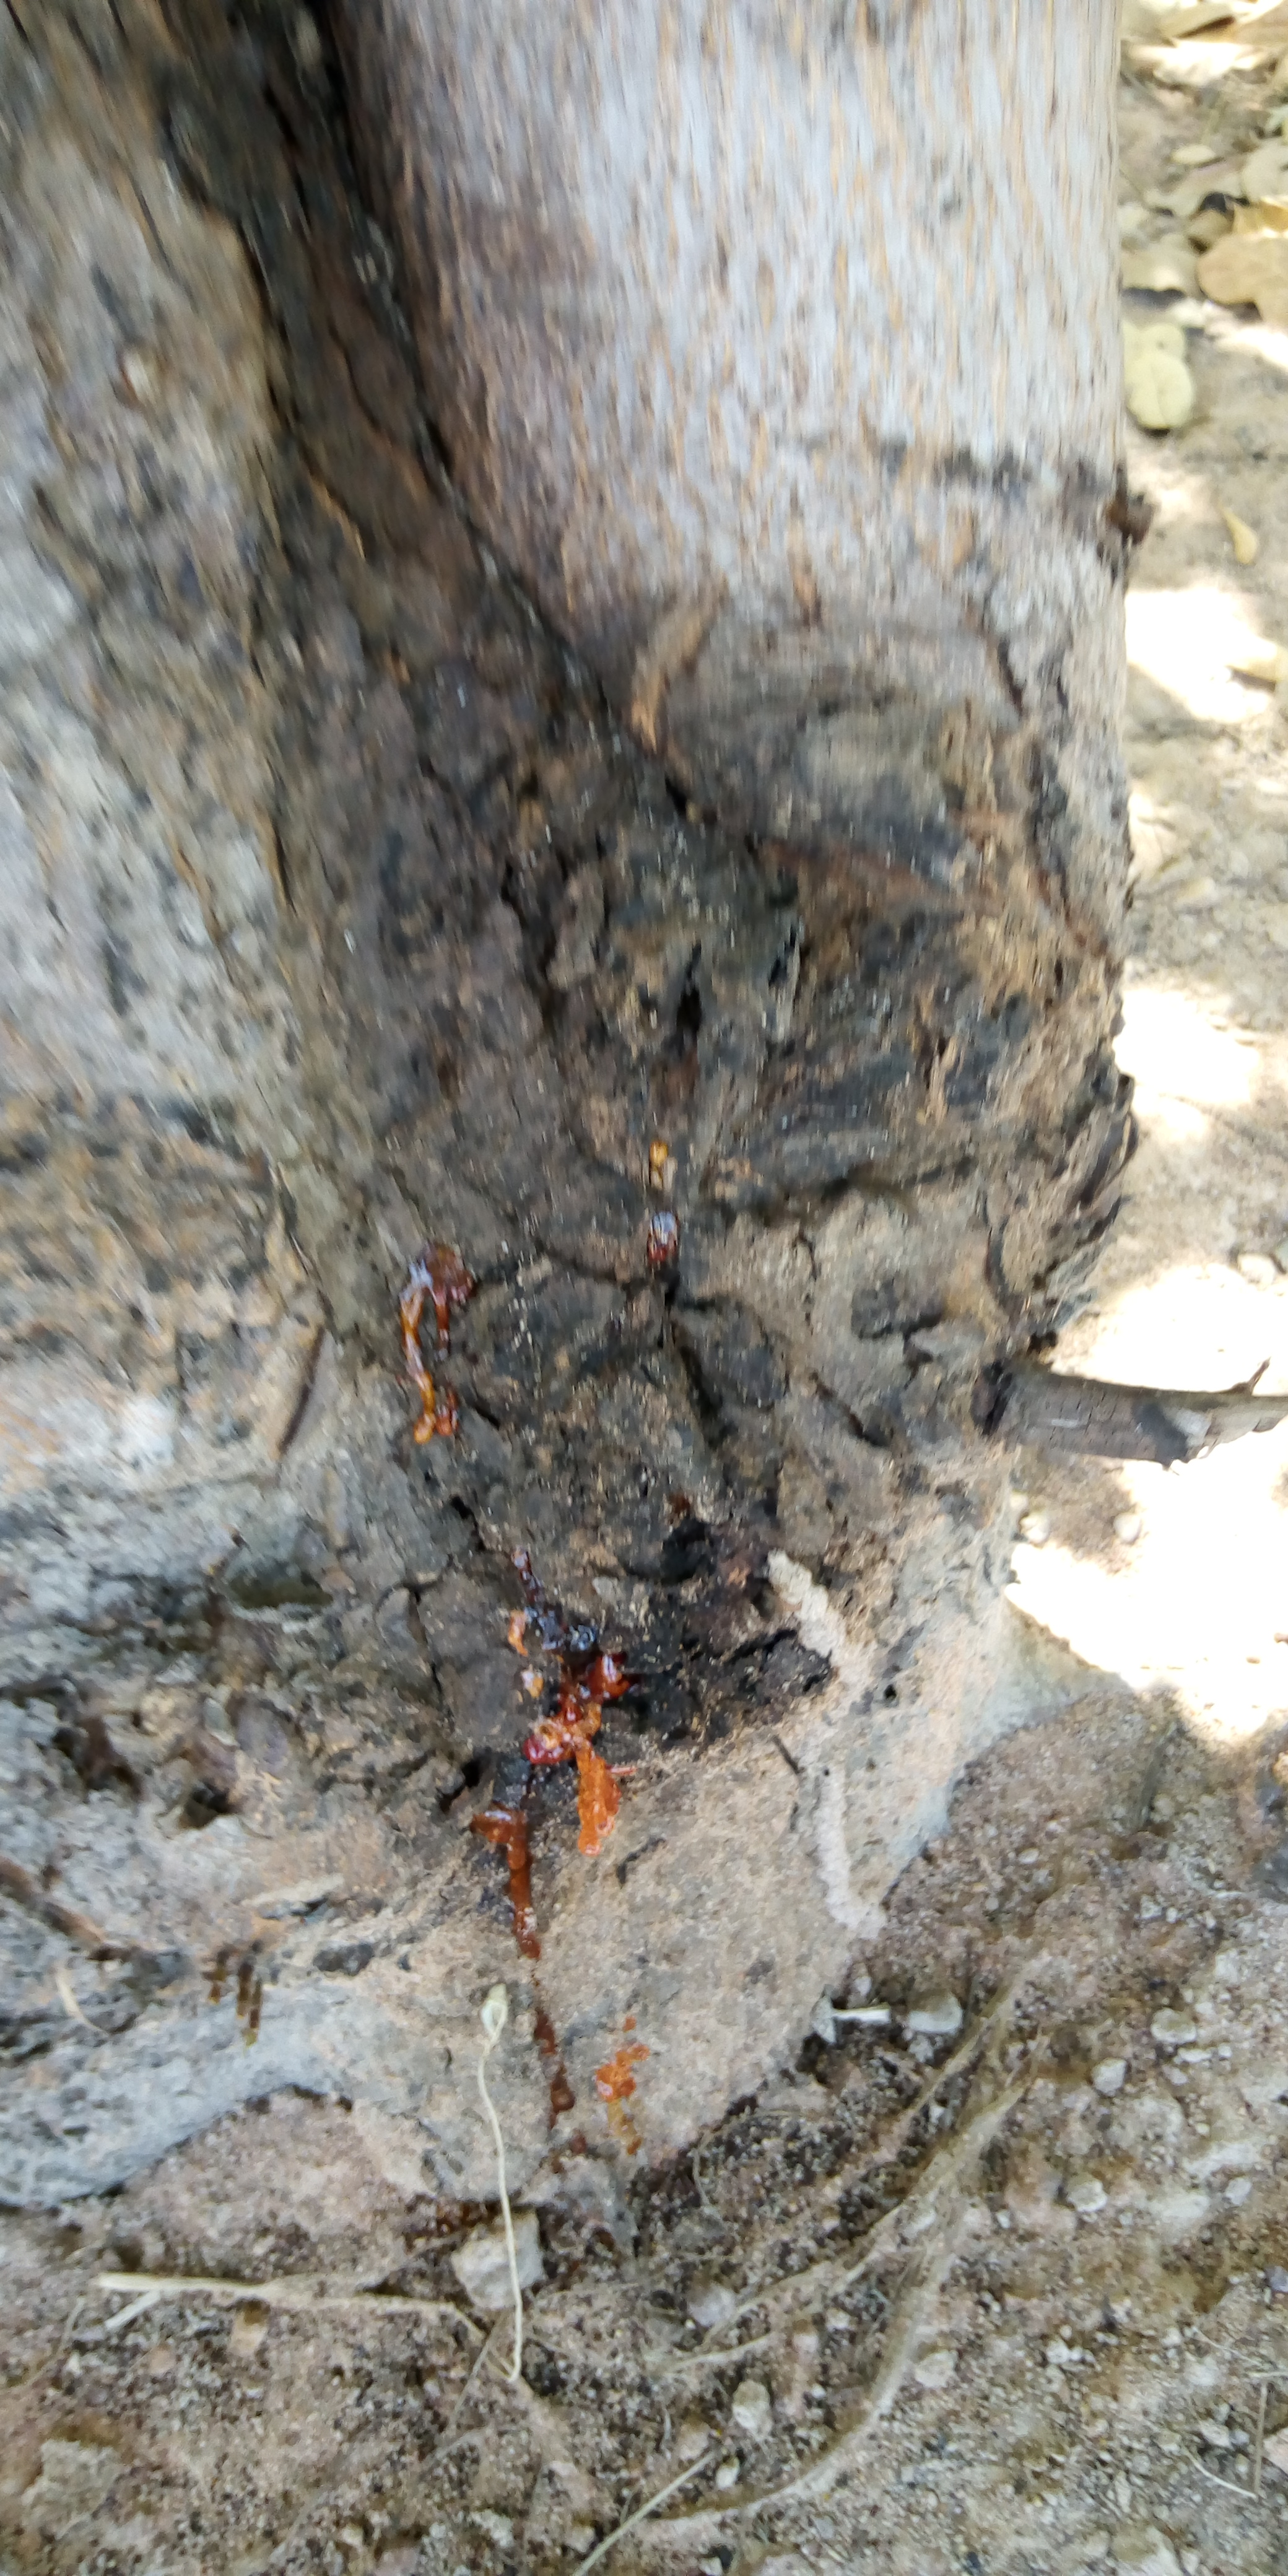Gommose: (194, 421, 1102, 1932)
